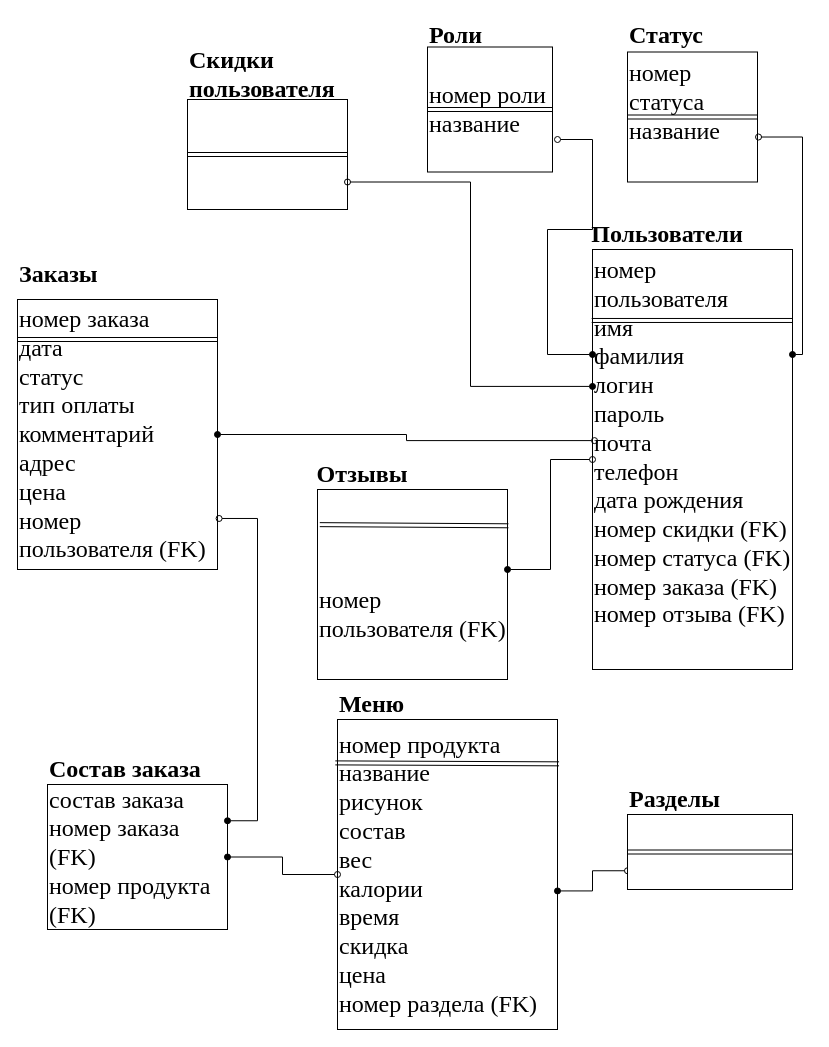
This 829x1047 diagram has some shape labels left out. Here are the shapes that lost their labels. From the top down, the box of each, then its label:
(186, 98, 348, 210): номер скидки скидка заказы за год
(316, 488, 508, 680): номер отзыва содержание дата
(626, 814, 792, 890): номер раздела название
